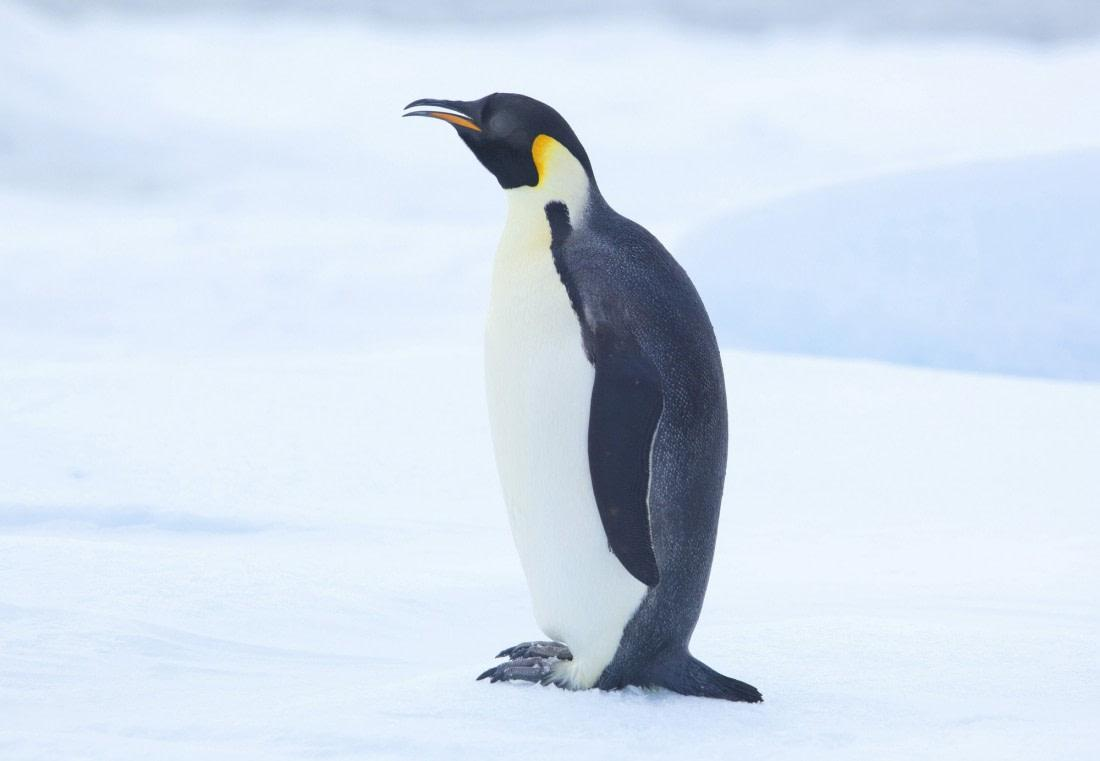emporer: (357, 63, 839, 747)
